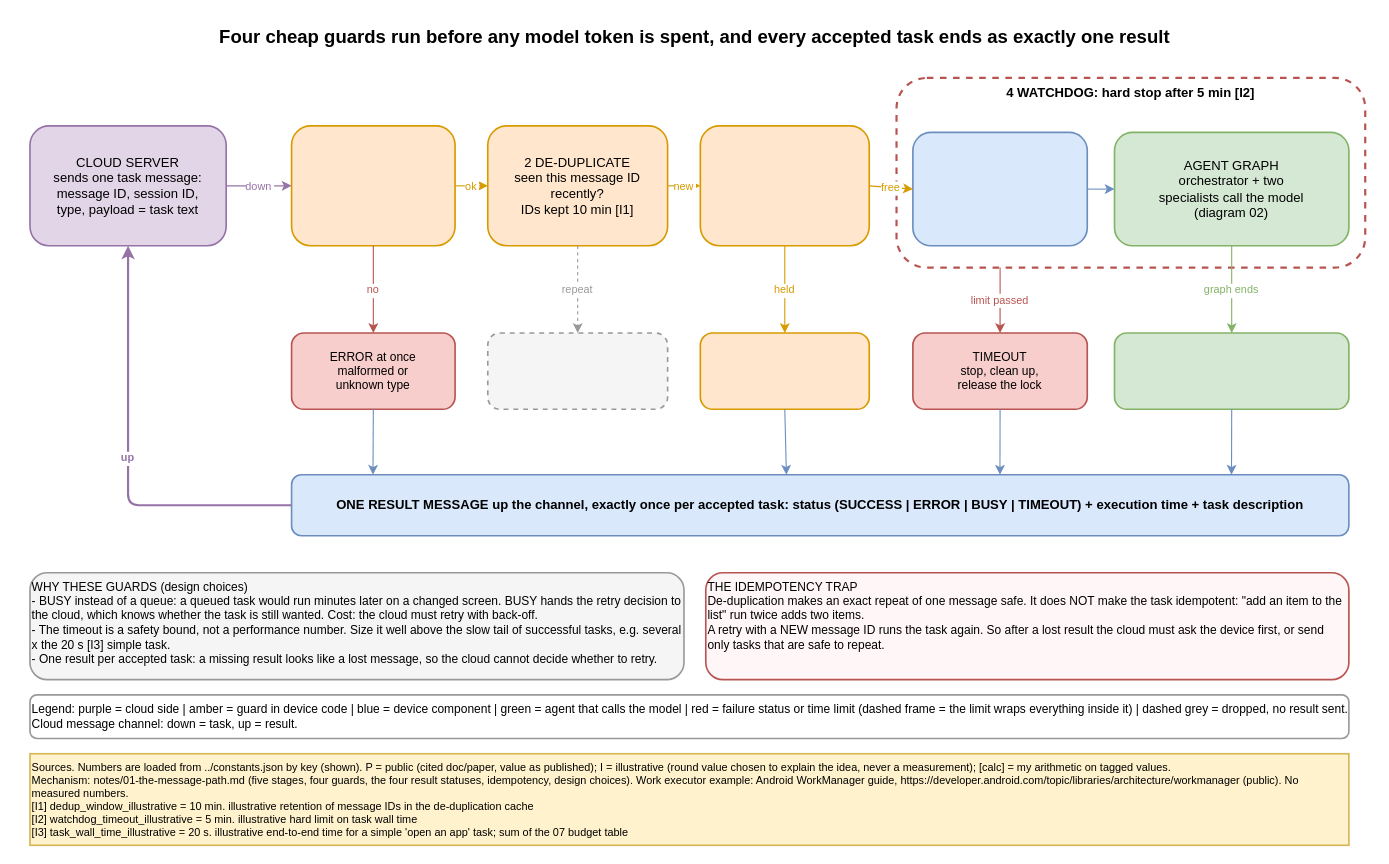
This 1389x864 diagram has some shape labels left out. The shapes that lost their labels are listed below. From the top down, each one's centre as x and y in pixels, then its label:
At point (372, 185): "1 VALIDATE well-formed? known message type?".
At point (784, 185): "3 LOCK is another task running? one screen = one task".
At point (1000, 188): "WORK EXECUTOR background job, outside the UI (e.g. WorkManager)".
At point (577, 371): "DROPPED not a new task: no second run, no second result".
At point (784, 371): "BUSY at once no queue: the cloud decides on retry".
At point (1231, 371): "SUCCESS or ERROR FINISH reached, or a model error / exception is caught".
